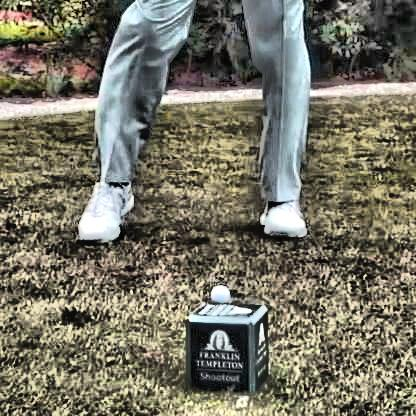golfball: (207, 281, 229, 303)
